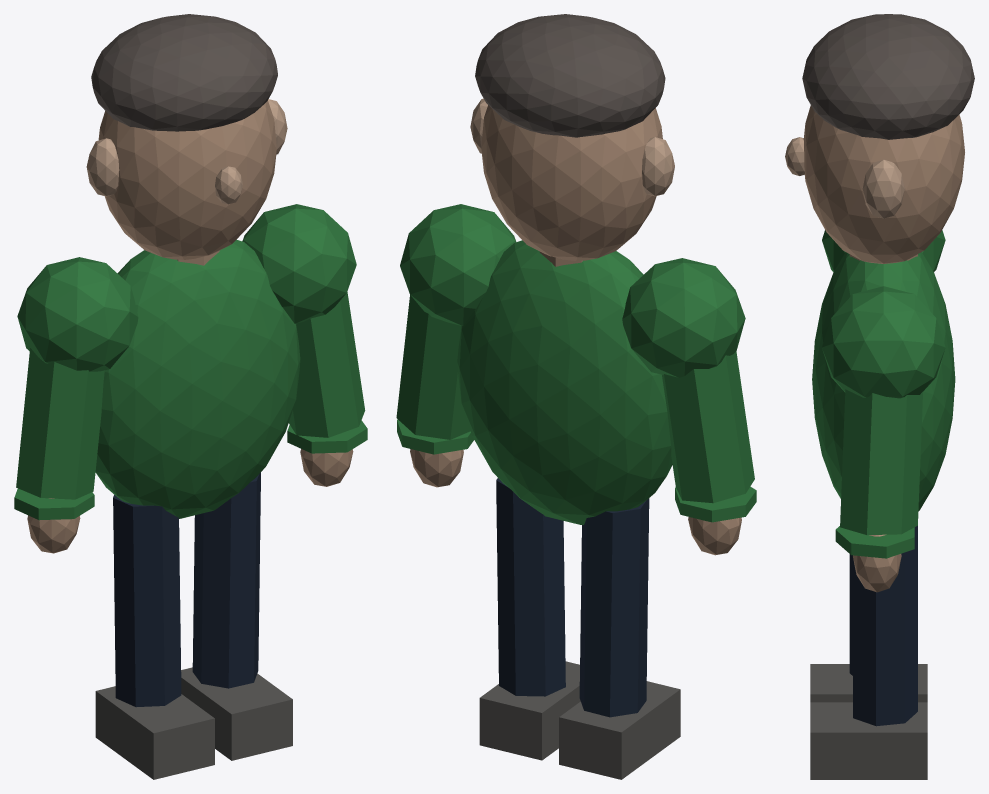
Rendered from ped_3.glb.
3 views of the same model, side by side, from view 1: azimuth 30°, elevation 25°; view 2: azimuth 150°, elevation 25°; view 3: azimuth 270°, elevation 25° (orthographic).
Parts seen in each view (by area): view 1: body, armR, legR, armL, legL; view 2: body, armR, legR, armL, legL; view 3: body, armL, legL, legR, armR.
Boxes of the visible parts, box(x1,y1,x2,y2) form: body: box(86, 14, 300, 518); armR: box(14, 257, 138, 553); legR: box(95, 494, 214, 779); armL: box(242, 204, 367, 486); legL: box(181, 472, 292, 760); body: box(457, 14, 674, 524); armR: box(622, 258, 756, 555); legR: box(559, 498, 680, 779); armL: box(396, 204, 516, 487); legL: box(479, 478, 580, 760); body: box(785, 14, 974, 511); armL: box(822, 286, 945, 592); legL: box(810, 525, 927, 779); legR: box(810, 554, 927, 702); armR: box(822, 230, 945, 271).
Bounding box in the file's own units: 0.8703 × 1.72 × 0.4127.
